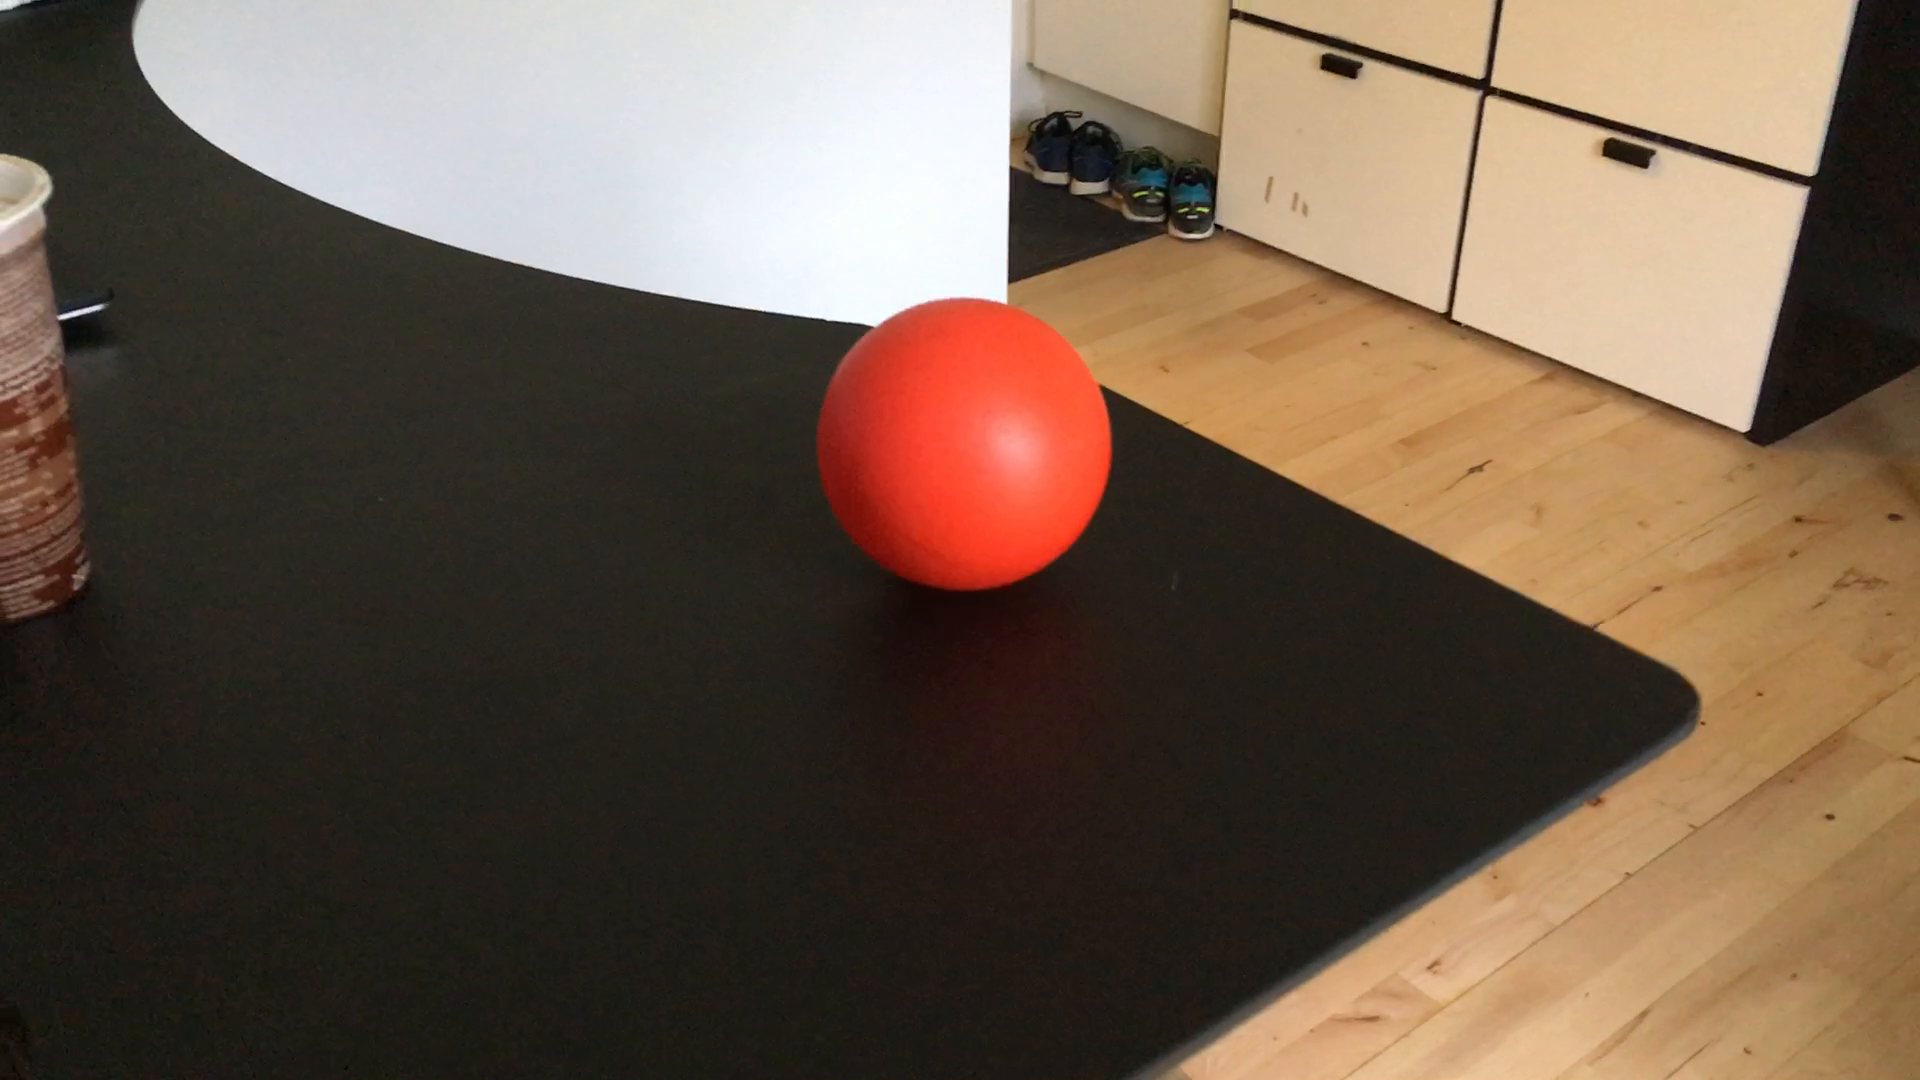Ball: (822, 297, 1112, 592)
